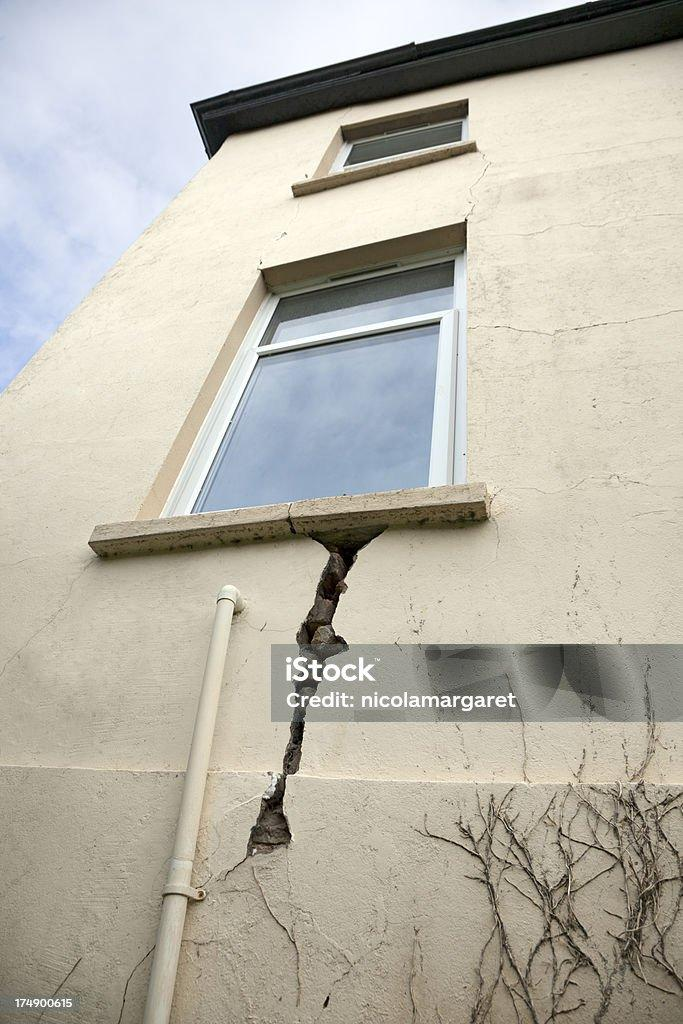Crack: (235, 515, 400, 880)
